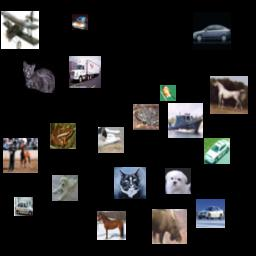airplane: (1, 11, 39, 49)
automobile: (193, 12, 231, 50), (196, 199, 225, 228), (204, 138, 230, 164), (14, 197, 33, 216), (72, 14, 88, 30)
bird: (160, 85, 176, 101)
cat: (114, 167, 146, 199), (23, 61, 55, 93), (98, 127, 124, 153)
deer: (152, 209, 187, 244)
dog: (52, 175, 78, 201), (165, 168, 191, 194)
frog: (133, 104, 159, 130), (50, 123, 76, 149)
ship: (168, 103, 203, 138)
truck: (69, 56, 101, 88)
